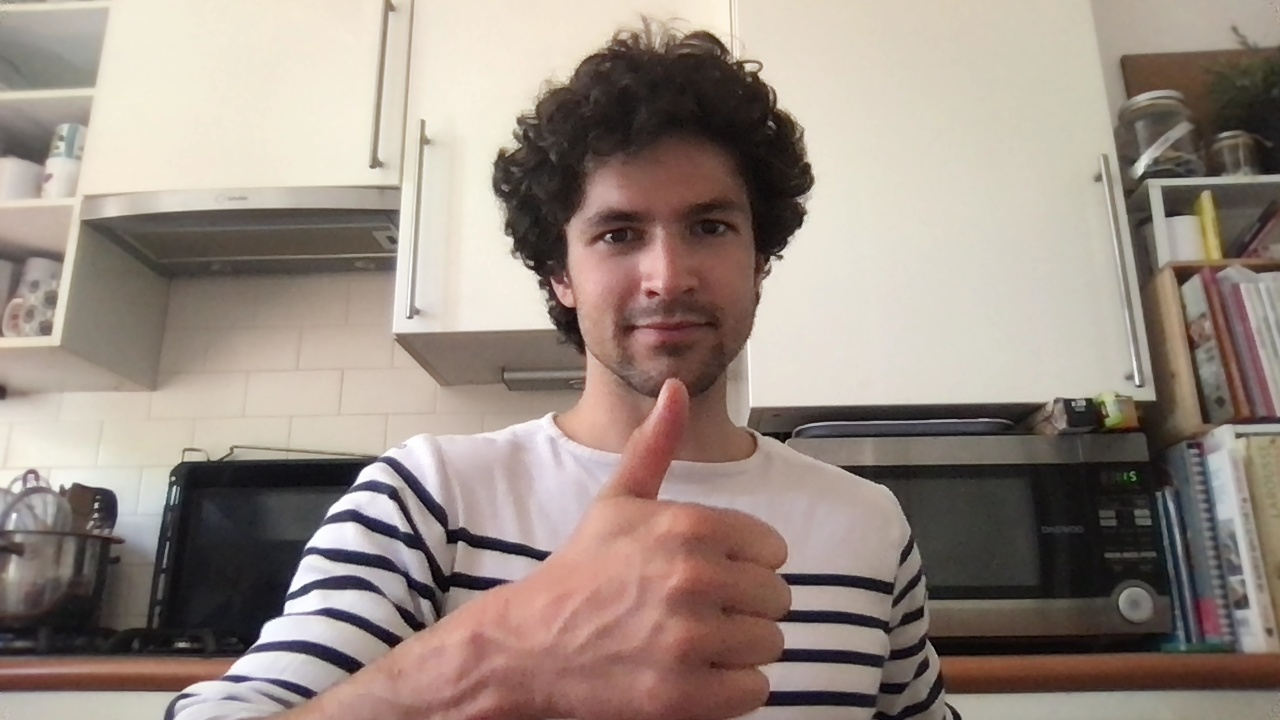thumbUp: (536, 378, 792, 720)
